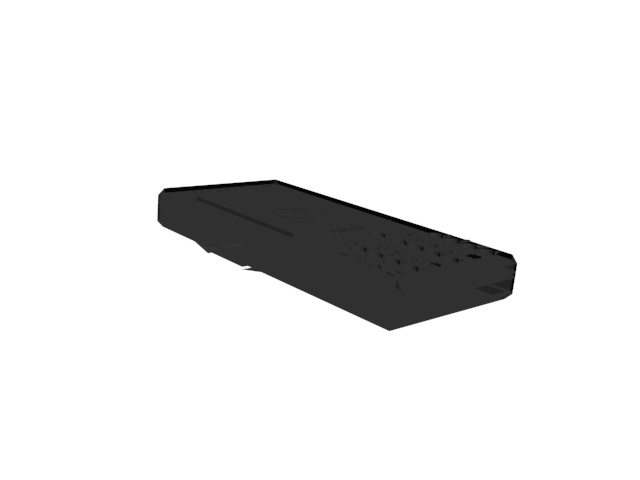mobile_phone: (153, 177, 520, 336)
